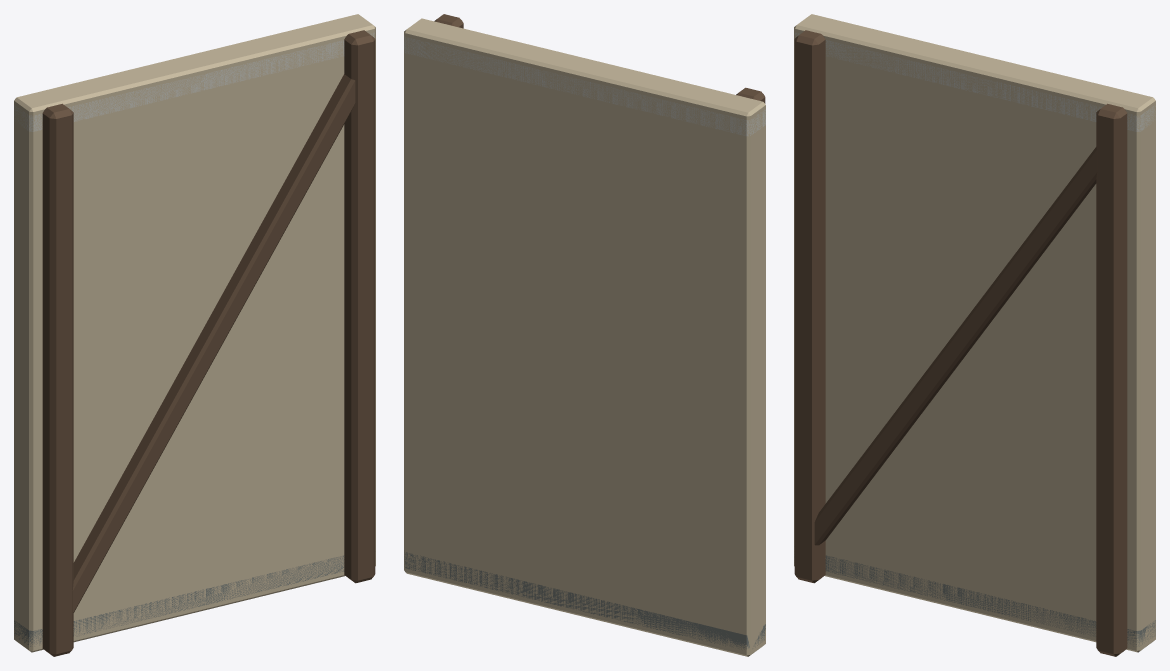
Rendered from architecture-village-wall.lod0.glb.
3 views of the same model, side by side, from view 1: azimuth 30°, elevation 25°; view 2: azimuth 150°, elevation 25°; view 3: azimuth 330°, elevation 25° (orthographic).
Parts seen in each view (by area): view 1: architecture-village-wall__body; view 2: architecture-village-wall__body; view 3: architecture-village-wall__body.
Part boxes in pixels (x1,y1,x2,y2): architecture-village-wall__body: [14, 14, 375, 656]; architecture-village-wall__body: [404, 14, 765, 656]; architecture-village-wall__body: [794, 14, 1155, 656].
Size of the model in its own units: 2 by 3 by 0.29.
